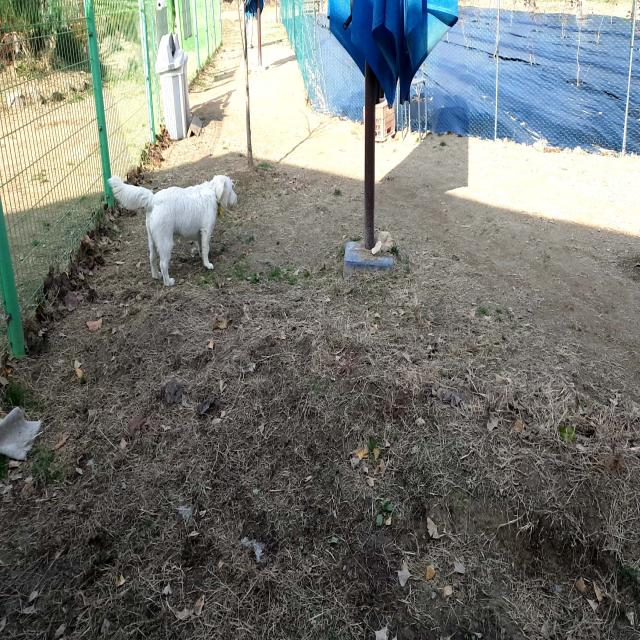Dog: (106, 174, 238, 288)
